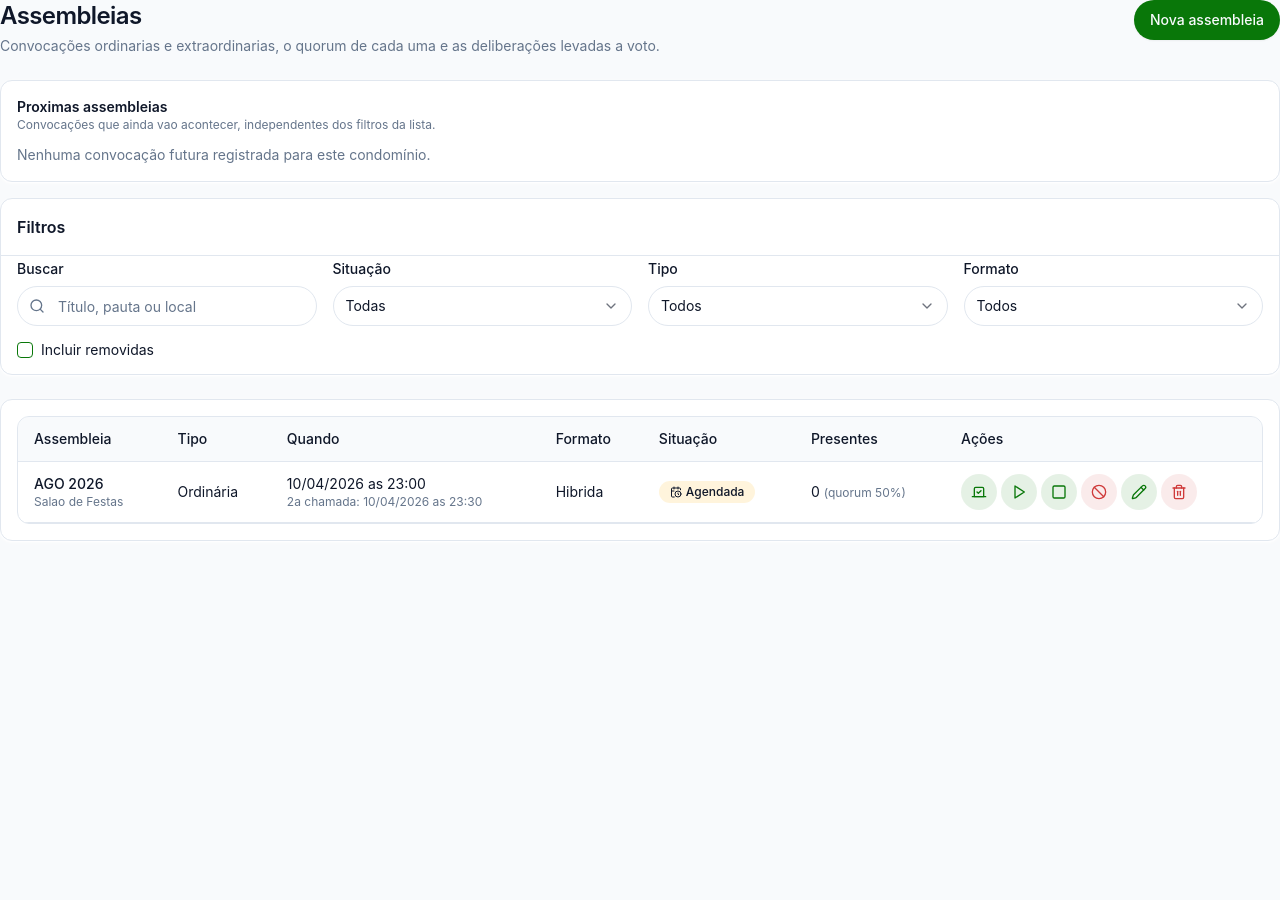
Scenario: Gestão — lista de status e registro › IT-373: a gestao lista unidades por status sem expor a alternativa escolhida
Expected: the text "AGO 2026" is shown, [34,474,104,494]
Click the button named "Deliberações de AGO 2026": (979, 492) [961,474,997,510]
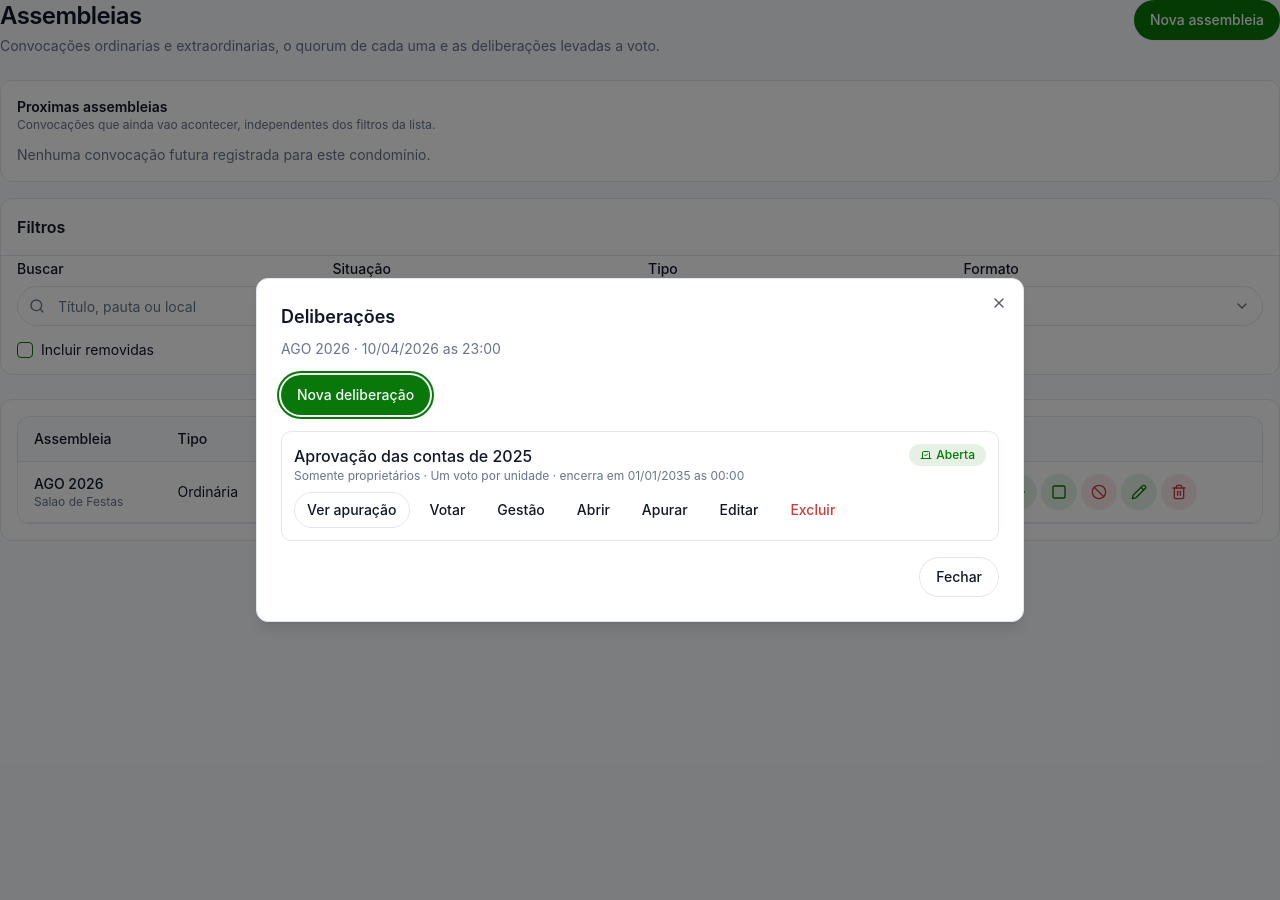
Result: the text "Aprovação das contas de 2025" is shown at [294,446,532,466]
Click the button "Gestão": (521, 510) [485,492,557,528]
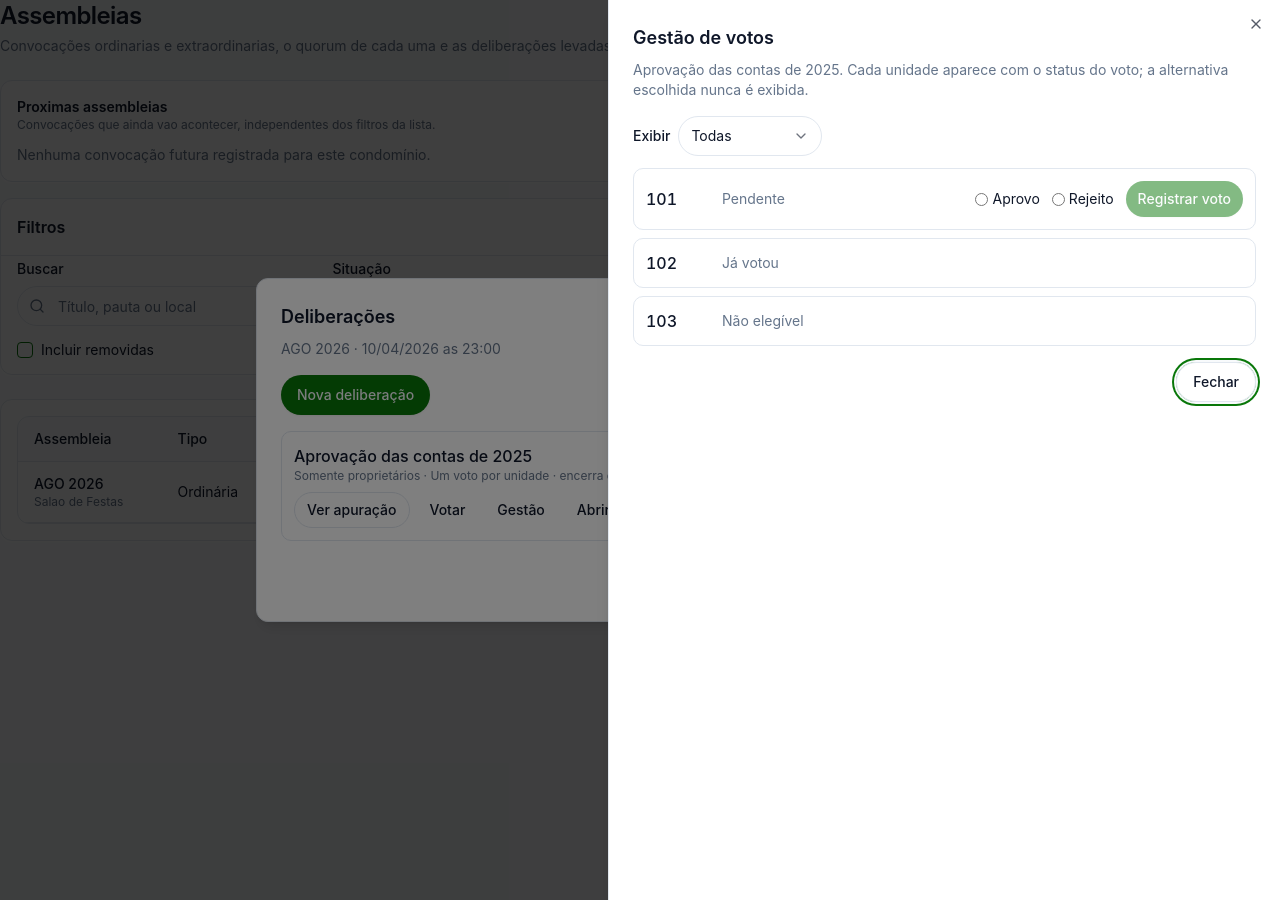
Result: the heading "Gestão de votos" is shown at [633,27,774,48]
Result: the text "101" is shown at [646,189,677,209]
Result: the text "Pendente" is shown at [722,189,785,209]
